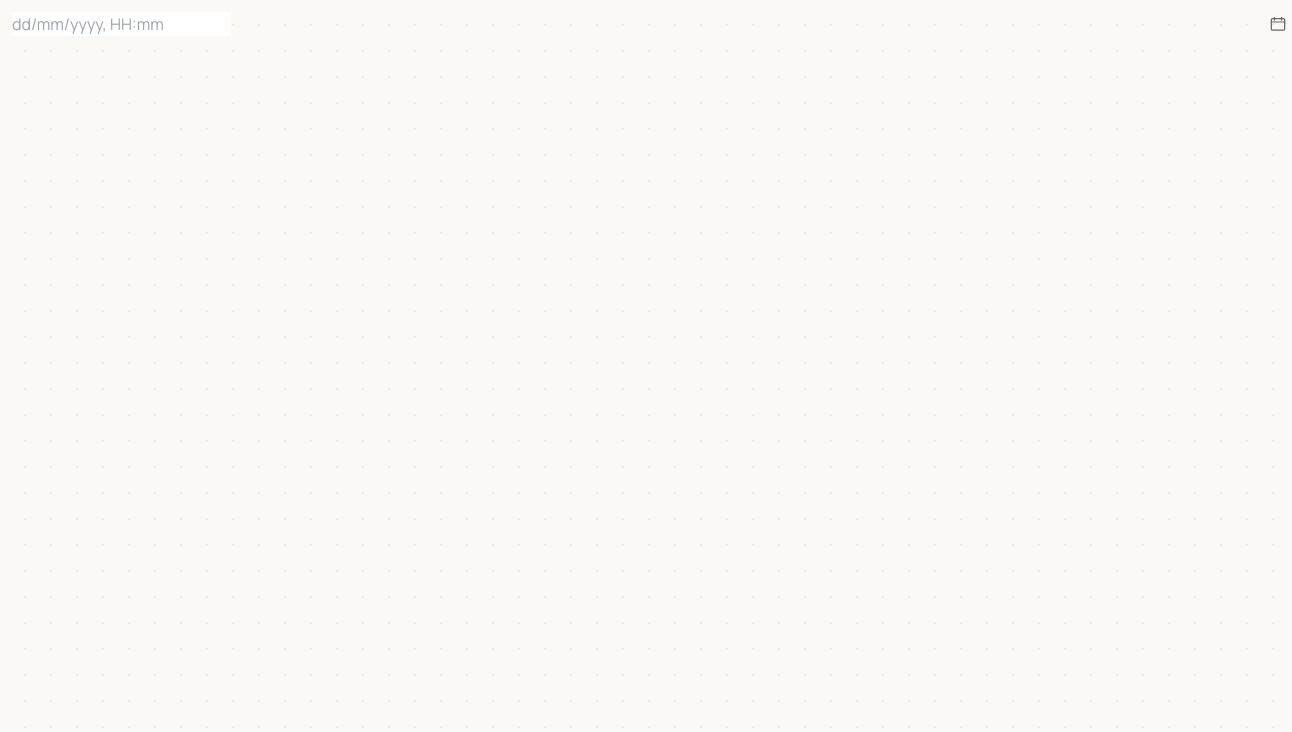
DateTimeInput › auto-inserts separators as digits are typed and commits once the datetime is complete
The image size is (1292, 732).
Type "310720260900" into the field named "Event start" at (122, 24), box top-left (12, 12), bottom-right (231, 36)
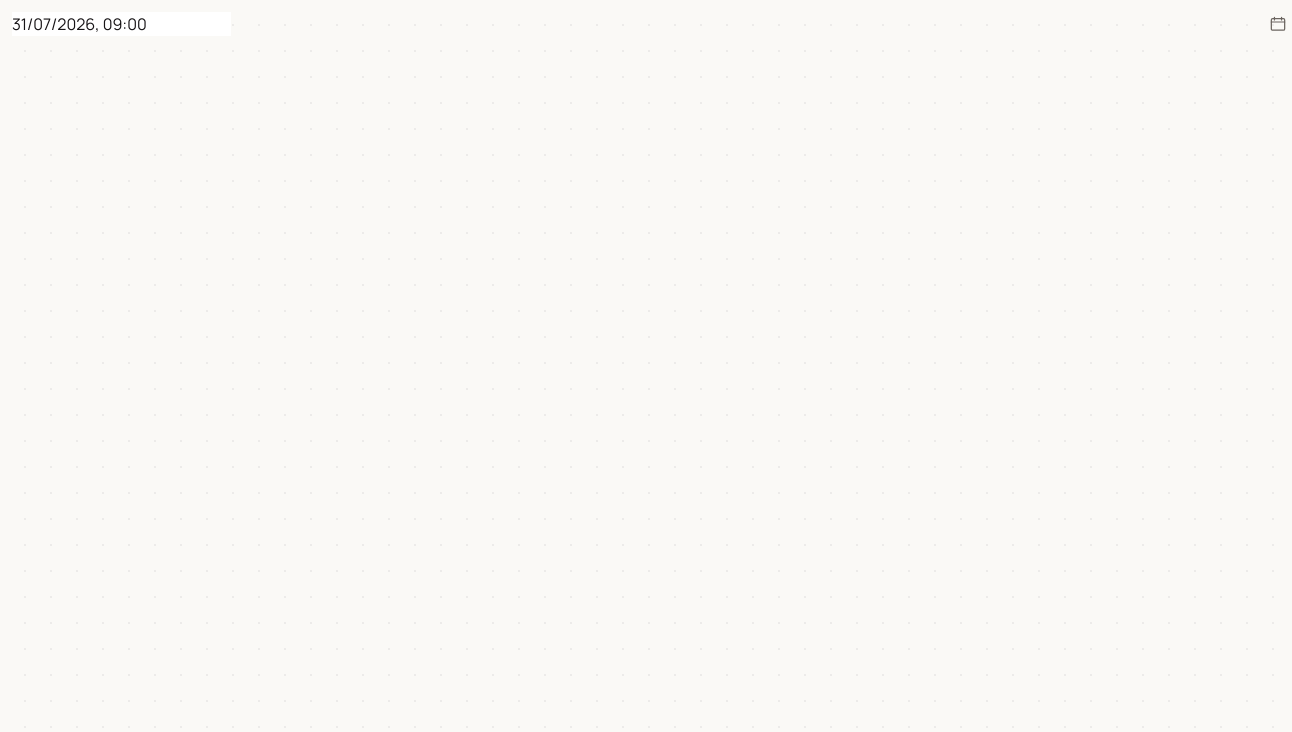
Expected: the field named "Event start" holds "31/07/2026, 09:00", top-left (12, 12), bottom-right (231, 36)
